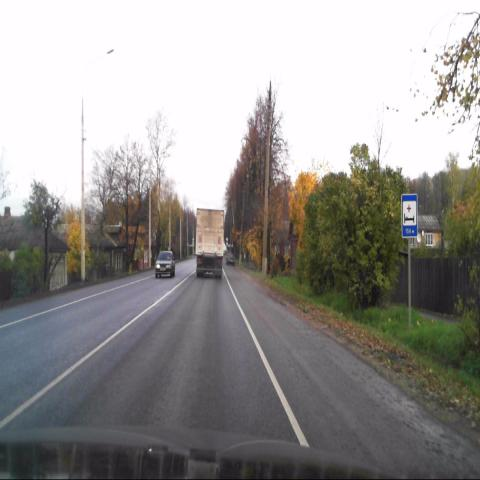7_2: (402, 194, 418, 238)
